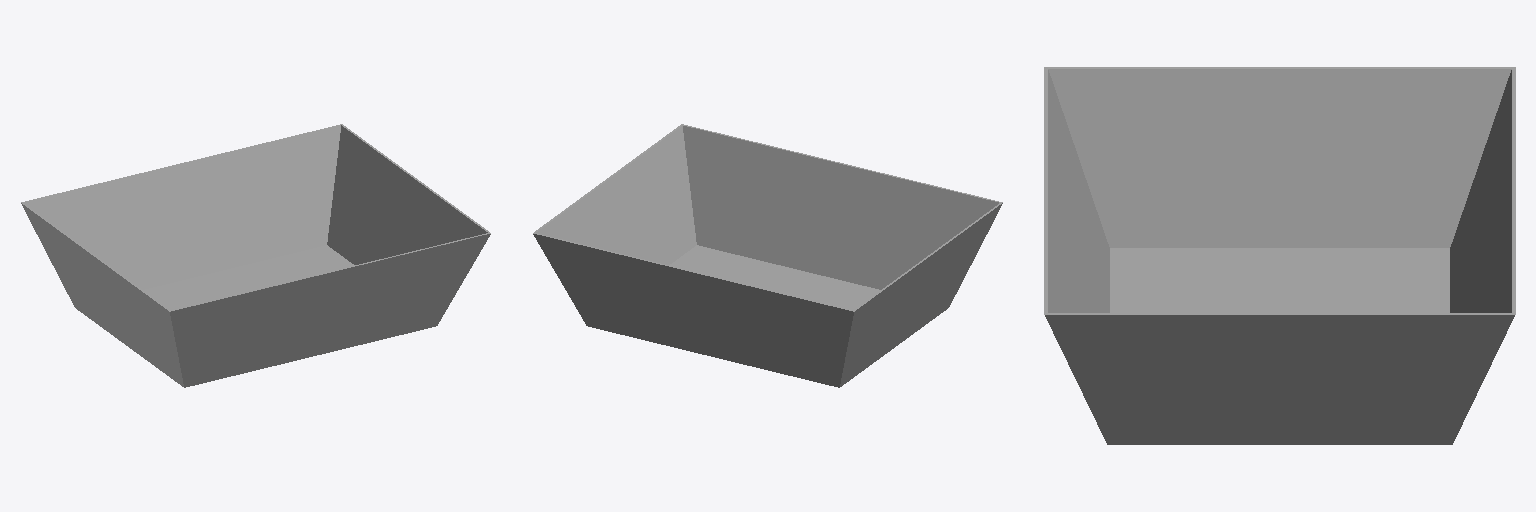
URDF robot description (Box):
<?xml version="1.0" ?>
<robot  name="Box">
  <material name="silver">
    <color rgba="0.700 0.700 0.700 1.000"/>
  </material>

  <link name="base_link">
    <inertial>
      <origin xyz="0. 0. 0." rpy="1.570796 0 0"/>
      <mass value="0"/>
      <inertia ixx="0." iyy="0." izz="0." ixy="0.0" iyz="0.0" ixz="0.0"/>
    </inertial>
    <visual>
      <origin xyz="0 0 0" rpy="1.570796 0 0"/>
      <geometry>
        <mesh filename="mesh/trapezoid_box/base_link.obj" scale="0.001 0.001 0.001"/>
      </geometry>
      <material name="silver"/>
    </visual>
    <collision>
      <origin xyz="0 0 0" rpy="1.570796 0 0"/>
      <geometry>
        <mesh filename="mesh/trapezoid_box/base_link.obj" scale="0.001 0.001 0.001"/>
      </geometry>
    </collision>
  </link>

  <link name="wing_1">
    <inertial>
      <origin xyz="0. 0. 0." rpy="1.570796 0 0"/>
      <mass value="0"/>
      <inertia ixx="0." iyy="0." izz="0." ixy="0.0" iyz="0.0" ixz="0.0"/>
    </inertial>
    <visual>
      <origin xyz="0 0 0" rpy="1.570796 0 0"/>
      <geometry>
        <mesh filename="mesh/trapezoid_box/wing_1.obj" scale="0.001 0.001 0.001"/>
      </geometry>
      <material name="silver"/>
    </visual>
    <collision>
      <origin xyz="0 0 0" rpy="1.570796 0 0"/>
      <geometry>
        <mesh filename="mesh/trapezoid_box/wing_1.obj" scale="0.001 0.001 0.001"/>
      </geometry>
    </collision>
  </link>
 
  <link name="wing_2">
    <inertial>
      <origin xyz="0. 0. 0." rpy="1.570796 0 0"/>
      <mass value="0"/>
      <inertia ixx="0." iyy="0." izz="0." ixy="0.0" iyz="0.0" ixz="0.0"/>
    </inertial>
    <visual>
      <origin xyz="0 0 0" rpy="1.570796 0 0"/>
      <geometry>
        <mesh filename="mesh/trapezoid_box/wing_2.obj" scale="0.001 0.001 0.001"/>
      </geometry>
      <material name="silver"/>
    </visual>
    <collision>
      <origin xyz="0 0 0" rpy="1.570796 0 0"/>
      <geometry>
        <mesh filename="mesh/trapezoid_box/wing_2.obj" scale="0.001 0.001 0.001"/>
      </geometry>
    </collision>
  </link>

  <link name="wing_3">
    <inertial>
      <origin xyz="0. 0. 0." rpy="1.570796 0 0"/>
      <mass value="0"/>
      <inertia ixx="0." iyy="0." izz="0." ixy="0.0" iyz="0.0" ixz="0.0"/>
    </inertial>
    <visual>
      <origin xyz="0 0 0" rpy="1.570796 0 0"/>
      <geometry>
        <mesh filename="mesh/trapezoid_box/wing_3.obj" scale="0.001 0.001 0.001"/>
      </geometry>
      <material name="silver"/>
    </visual>
    <collision>
      <origin xyz="0 0 0" rpy="1.570796 0 0"/>
      <geometry>
        <mesh filename="mesh/trapezoid_box/wing_3.obj" scale="0.001 0.001 0.001"/>
      </geometry>
    </collision>
  </link>

  <link name="wing_4">
    <inertial>
      <origin xyz="0. 0. 0." rpy="1.570796 0 0"/>
      <mass value="0"/>
      <inertia ixx="0." iyy="0." izz="0." ixy="0.0" iyz="0.0" ixz="0.0"/>
    </inertial>
    <visual>
      <origin xyz="0 0 0"  rpy="1.570796 0 0"/>
      <geometry>
        <mesh filename="mesh/trapezoid_box/wing_4.obj" scale="0.001 0.001 0.001"/>
      </geometry>
      <material name="silver"/>
    </visual>
    <collision>
      <origin xyz="0 0 0"  rpy="1.570796 0 0"/>
      <geometry>
        <mesh filename="mesh/trapezoid_box/wing_4.obj" scale="0.001 0.001 0.001"/>
      </geometry>
    </collision>
  </link>

  <joint name="fixed_joint1" type="fixed">
      <parent link="base_link"/>
      <child link="wing_1"/>
      <origin rpy="0 0 0.0" xyz="0. 0. 0."/>
  </joint>

  <joint name="fixed_joint2" type="fixed">
      <parent link="base_link"/>
      <child link="wing_2"/>
      <origin rpy="0 0 0.0" xyz="0. 0. 0."/>
  </joint>

  <joint name="fixed_joint3" type="fixed">
      <parent link="base_link"/>
      <child link="wing_3"/>
      <origin rpy="0 0 0.0" xyz="0. 0. 0."/>
  </joint>

  <joint name="fixed_joint4" type="fixed">
      <parent link="base_link"/>
      <child link="wing_4"/>
      <origin rpy="0 0 0.0" xyz="0. 0. 0."/>
  </joint>

</robot>

--- Facts derived from the render (not from the file) ---
Views: 3 orthographic renders of the robot side by side, from view 1: azimuth 30°, elevation 25°; view 2: azimuth 150°, elevation 25°; view 3: azimuth 270°, elevation 25°.
Robot: Box — 5 links, 4 joints (4 fixed); root link base_link; default pose: every joint at zero.
Links seen in each view (by area): view 1: wing_1, wing_3, wing_4, wing_2, base_link; view 2: wing_3, wing_1, wing_4, wing_2, base_link; view 3: wing_2, wing_4, base_link, wing_1, wing_3.
Boxes of the visible links, bbox=[...] form: wing_1: bbox=[21, 124, 342, 306]; wing_3: bbox=[171, 233, 490, 386]; wing_4: bbox=[327, 125, 489, 264]; wing_2: bbox=[22, 203, 185, 387]; base_link: bbox=[143, 245, 354, 309]; wing_3: bbox=[681, 124, 1000, 289]; wing_1: bbox=[533, 233, 854, 387]; wing_4: bbox=[534, 125, 696, 264]; wing_2: bbox=[841, 202, 1002, 386]; base_link: bbox=[669, 245, 880, 309]; wing_2: bbox=[1044, 67, 1511, 247]; wing_4: bbox=[1048, 313, 1511, 444]; base_link: bbox=[1110, 248, 1449, 312]; wing_1: bbox=[1449, 67, 1515, 444]; wing_3: bbox=[1044, 69, 1110, 444].
Size in the robot's own frame: 0.5092 by 0.4092 by 0.15 metres.
5 mesh visuals loaded from 5 distinct referenced files (5 OBJ).